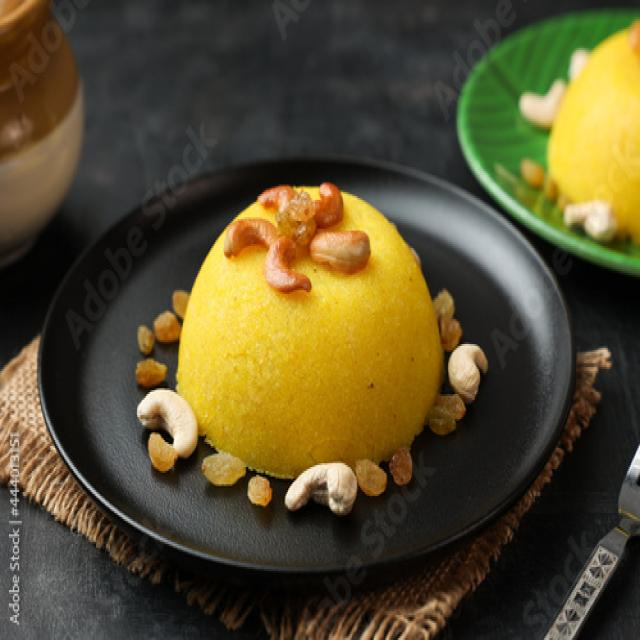UPMA: (177, 183, 443, 479)
